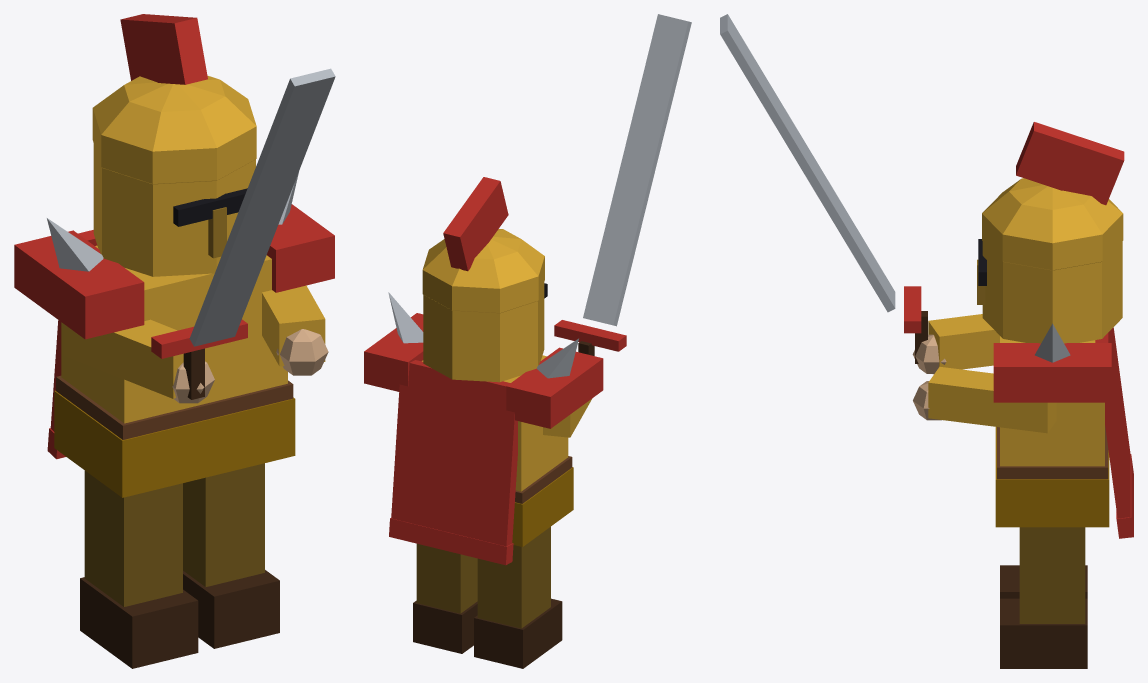
The model's file is u_champion.fbx.
3 renders of one model, left to right at view 1: azimuth 30°, elevation 25°; view 2: azimuth 150°, elevation 25°; view 3: azimuth 270°, elevation 25°, orthographic. The views are drawn at different scales.
Parts seen in each view (by area): view 1: u_champion_Body, u_champion_LegR, u_champion_LegL; view 2: u_champion_Body, u_champion_LegR, u_champion_LegL; view 3: u_champion_Body, u_champion_LegL, u_champion_LegR.
Boxes of the visible parts, box(x1,y1,x2,y2) form: u_champion_Body: box(14, 14, 335, 497); u_champion_LegR: box(80, 470, 198, 668); u_champion_LegL: box(183, 463, 279, 648); u_champion_Body: box(364, 14, 691, 565); u_champion_LegR: box(474, 526, 562, 668); u_champion_LegL: box(413, 543, 477, 653); u_champion_Body: box(720, 14, 1133, 538); u_champion_LegL: box(1000, 527, 1087, 668); u_champion_LegR: box(1000, 565, 1087, 598).
Bounding box in the file's own units: 0.5636 × 1.5 × 0.9464.
